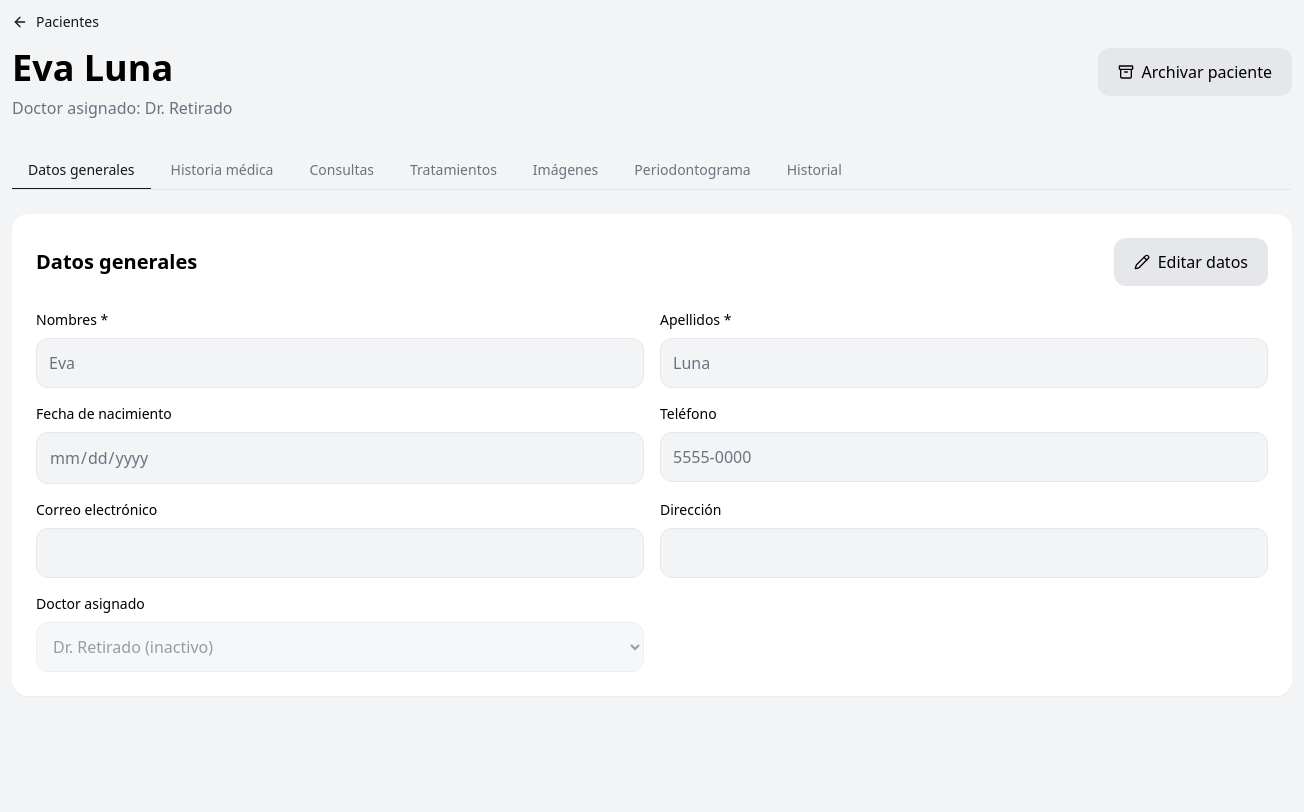
Test case: PatientDetailPage › Cancelar descarta los cambios
The width and height of the screenshot is (1304, 812).
Check: the heading "Eva Luna" is shown, box top-left (12, 43), bottom-right (173, 92)
Click the button "Editar datos".
click(1191, 262)  # box top-left (1114, 238), bottom-right (1268, 286)
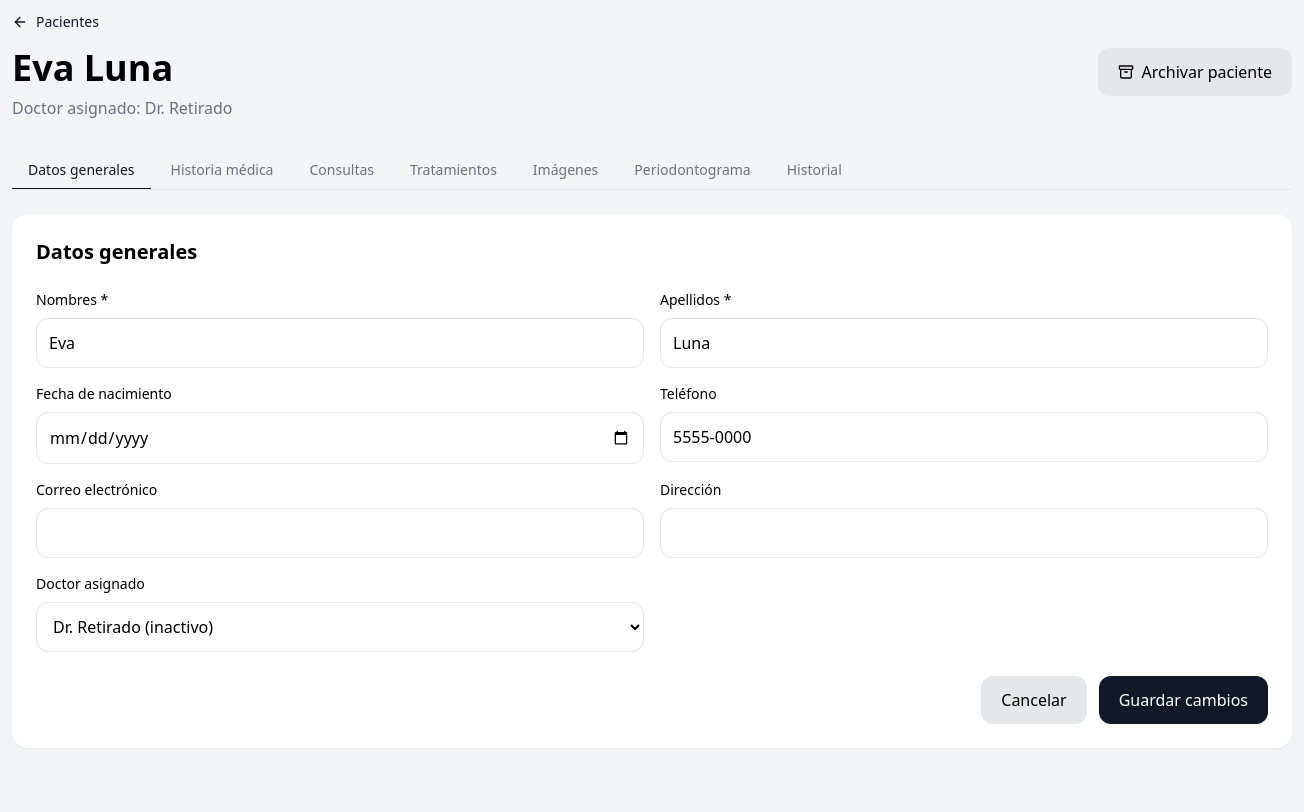
Replace the text in the field labelled "Nombres *" with "Otra" at (340, 343), box top-left (36, 318), bottom-right (644, 368)
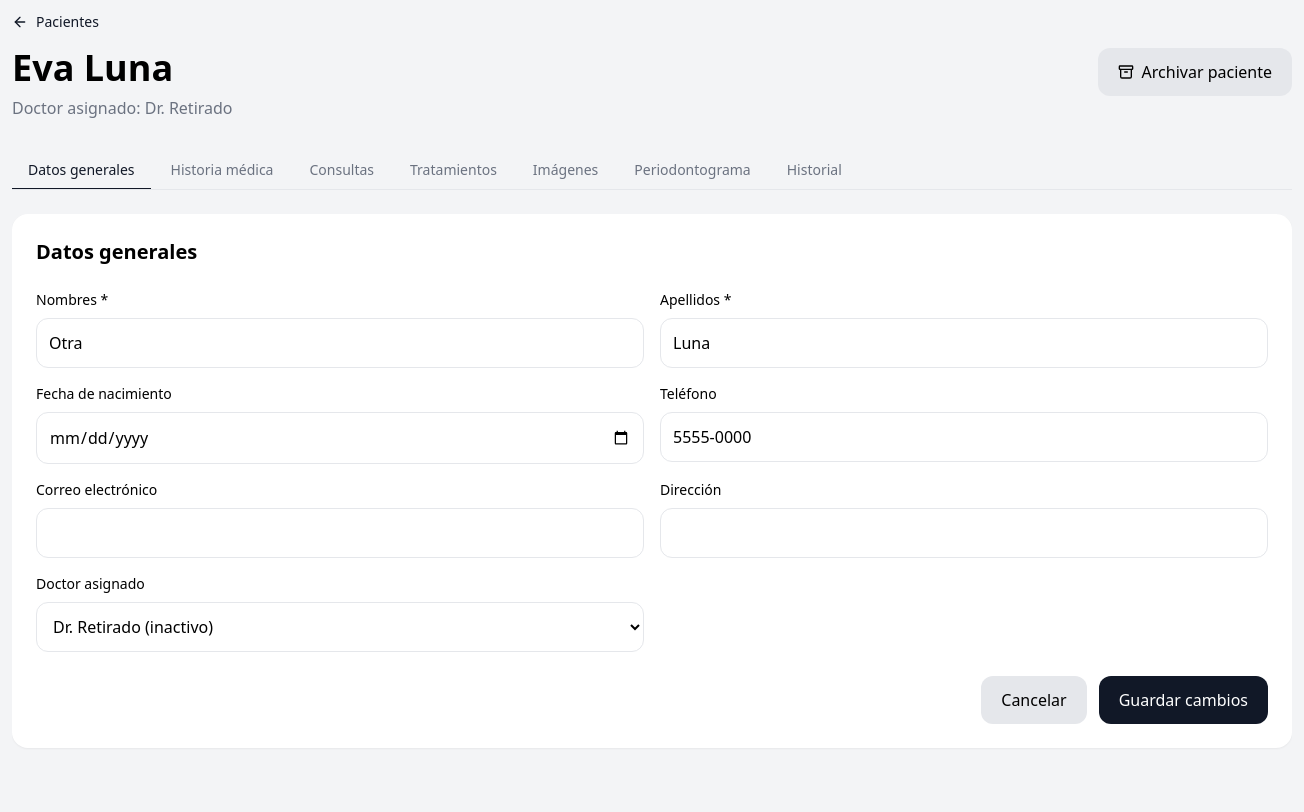
Click the button "Cancelar".
click(1034, 700)  # box top-left (981, 676), bottom-right (1087, 724)
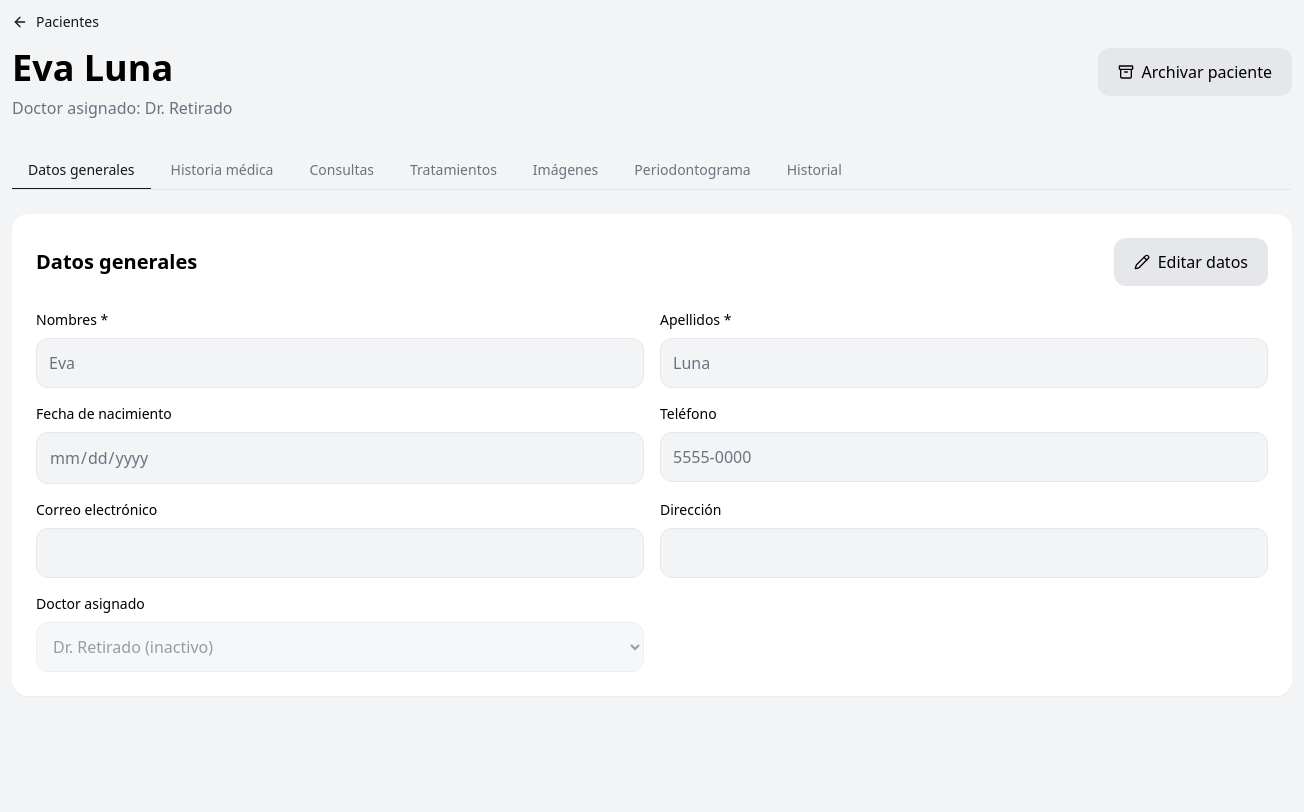
Check: the field labelled "Nombres *" holds "Eva", box top-left (36, 338), bottom-right (644, 388)
